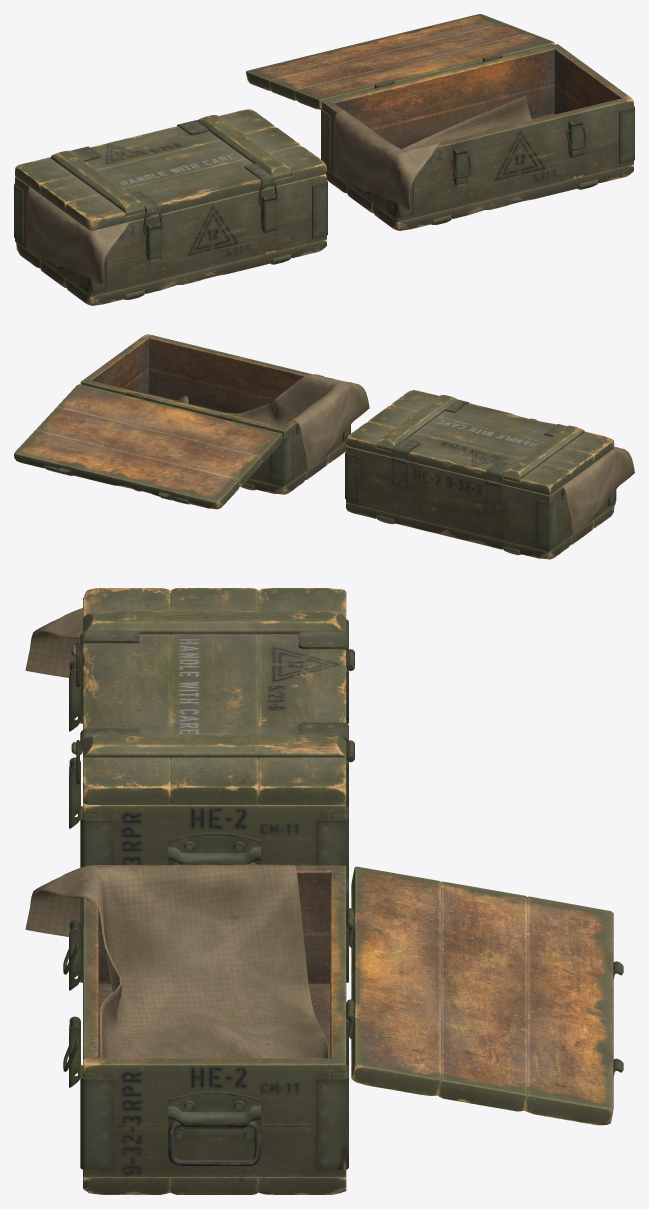
File: old_military_crate_2k.gltf
3 views of the same model, one above another, from view 1: azimuth 30°, elevation 25°; view 2: azimuth 150°, elevation 25°; view 3: azimuth 270°, elevation 25° (orthographic). The views are drawn at different scales.
Parts seen in each view (by area): view 1: old_military_crate_b, old_military_crate_lid_a, old_military_crate_a, old_military_crate_lid_b, old_military_crate_cloth_b, old_military_crate_cloth_a, old_military_crate_latch_a, old_military_crate_latch_b; view 2: old_military_crate_lid_b, old_military_crate_lid_a, old_military_crate_a, old_military_crate_b, old_military_crate_cloth_b, old_military_crate_cloth_a; view 3: old_military_crate_lid_a, old_military_crate_lid_b, old_military_crate_b, old_military_crate_cloth_b, old_military_crate_a, old_military_crate_cloth_a, old_military_crate_latch_b, old_military_crate_latch_a.
Boxes of the visible parts, left/top/right/bottom form: old_military_crate_b: left=321, top=44, right=634, bottom=230; old_military_crate_lid_a: left=15, top=109, right=326, bottom=230; old_military_crate_a: left=14, top=174, right=327, bottom=305; old_military_crate_lid_b: left=246, top=14, right=555, bottom=109; old_military_crate_cloth_b: left=333, top=95, right=532, bottom=209; old_military_crate_cloth_a: left=26, top=187, right=129, bottom=284; old_military_crate_latch_a: left=146, top=194, right=276, bottom=261; old_military_crate_latch_b: left=453, top=119, right=583, bottom=186; old_military_crate_lid_b: left=14, top=384, right=282, bottom=509; old_military_crate_lid_a: left=346, top=390, right=614, bottom=495; old_military_crate_a: left=345, top=446, right=616, bottom=559; old_military_crate_b: left=80, top=334, right=350, bottom=494; old_military_crate_cloth_b: left=174, top=374, right=369, bottom=470; old_military_crate_cloth_a: left=562, top=447, right=634, bottom=535; old_military_crate_lid_a: left=71, top=588, right=354, bottom=804; old_military_crate_lid_b: left=346, top=866, right=623, bottom=1125; old_military_crate_b: left=80, top=865, right=354, bottom=1194; old_military_crate_cloth_b: left=25, top=864, right=329, bottom=1058; old_military_crate_a: left=80, top=619, right=354, bottom=879; old_military_crate_cloth_a: left=25, top=608, right=82, bottom=677; old_military_crate_latch_b: left=69, top=919, right=80, bottom=1087; old_military_crate_latch_a: left=69, top=660, right=80, bottom=828.
Size of the model in its own units: 1.82 by 0.3009 by 0.9757.
Materials: 1 (1 with a texture image).
